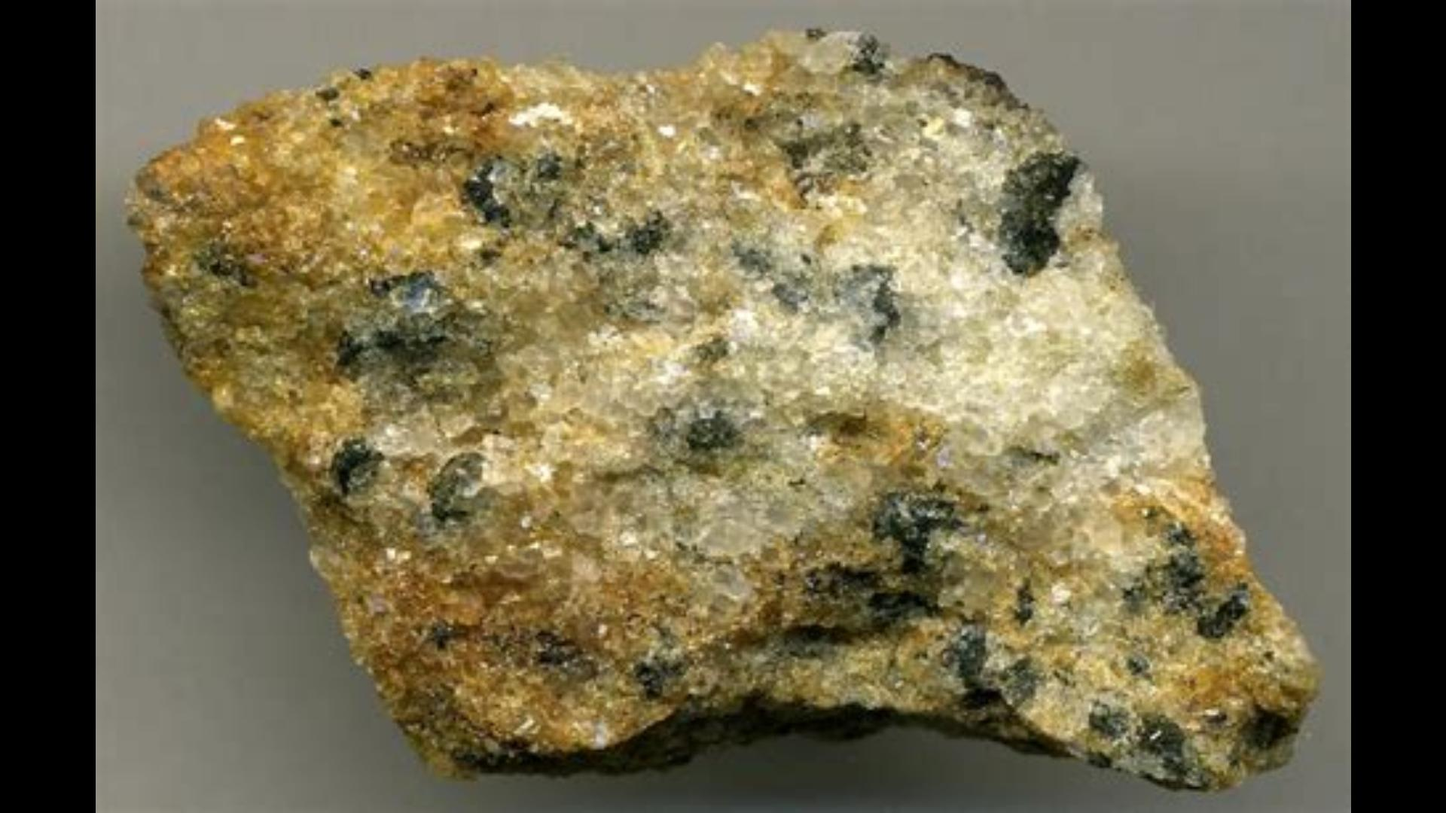rock: (140, 32, 1308, 784)
